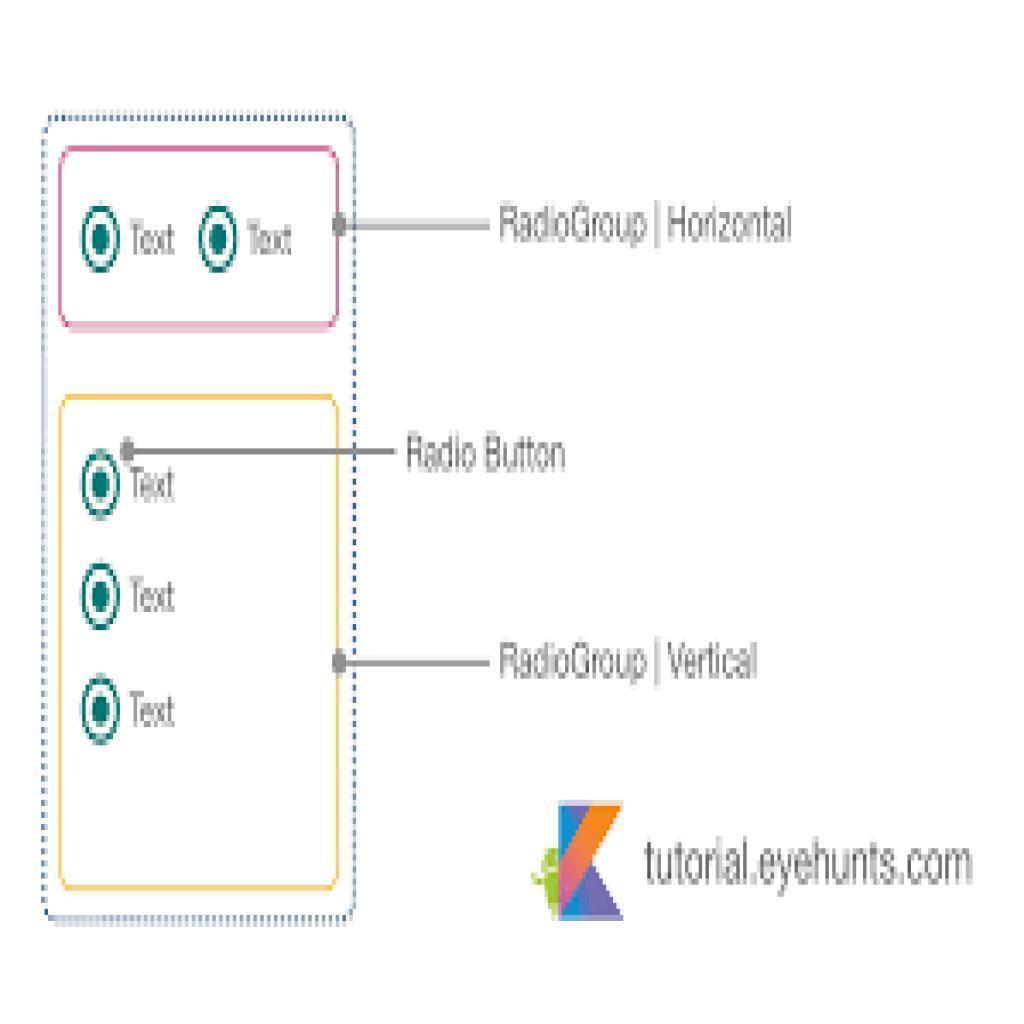radio: (77, 671, 122, 746), (78, 559, 121, 631), (80, 204, 122, 275), (198, 205, 239, 274), (82, 450, 122, 520)
